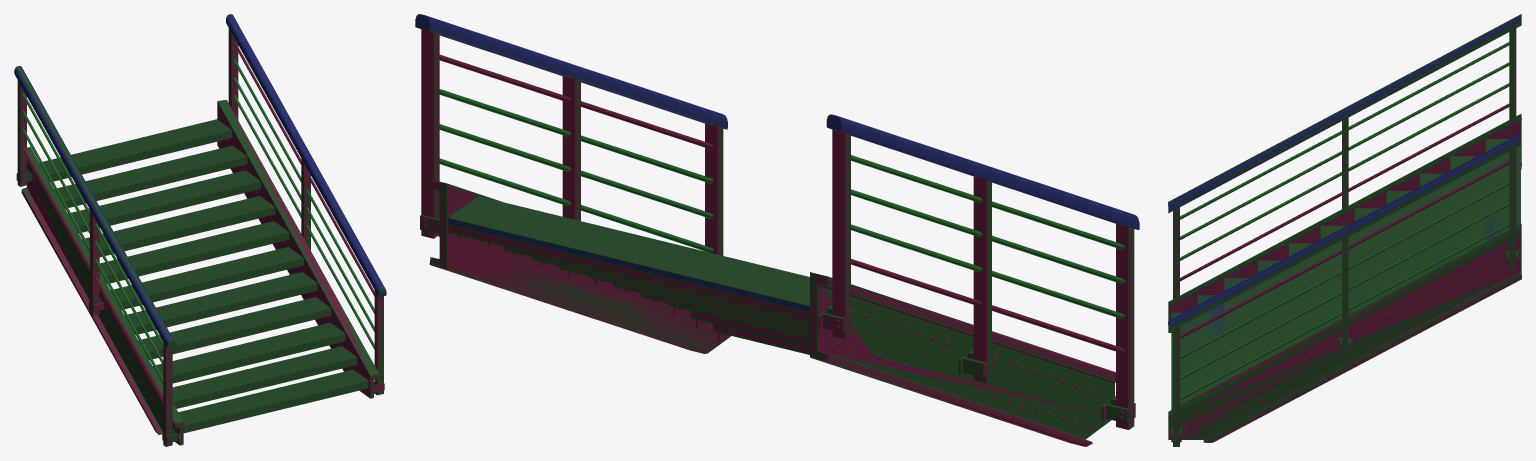
File: StudioStairs_03_Mesh.fbx
3 views of the same model, side by side, from view 1: azimuth 30°, elevation 25°; view 2: azimuth 150°, elevation 25°; view 3: azimuth 270°, elevation 25° (orthographic). The views are drawn at different scales.
Parts seen in each view (by area): view 1: Studio_Stairs_Col, Studio_Stairs_LOD0; view 2: Studio_Stairs_LOD0, Studio_Stairs_Col; view 3: Studio_Stairs_Col, Studio_Stairs_LOD0.
Part boxes in pixels (left/top/right/bottom): Studio_Stairs_Col: left=14, top=14, right=386, bottom=446; Studio_Stairs_LOD0: left=14, top=14, right=386, bottom=446; Studio_Stairs_LOD0: left=416, top=14, right=1139, bottom=446; Studio_Stairs_Col: left=415, top=14, right=1139, bottom=445; Studio_Stairs_Col: left=1168, top=14, right=1521, bottom=446; Studio_Stairs_LOD0: left=1168, top=16, right=1521, bottom=446.
Size of what is drawn, in the model's own units: 2.74 by 3.32 by 3.22.
